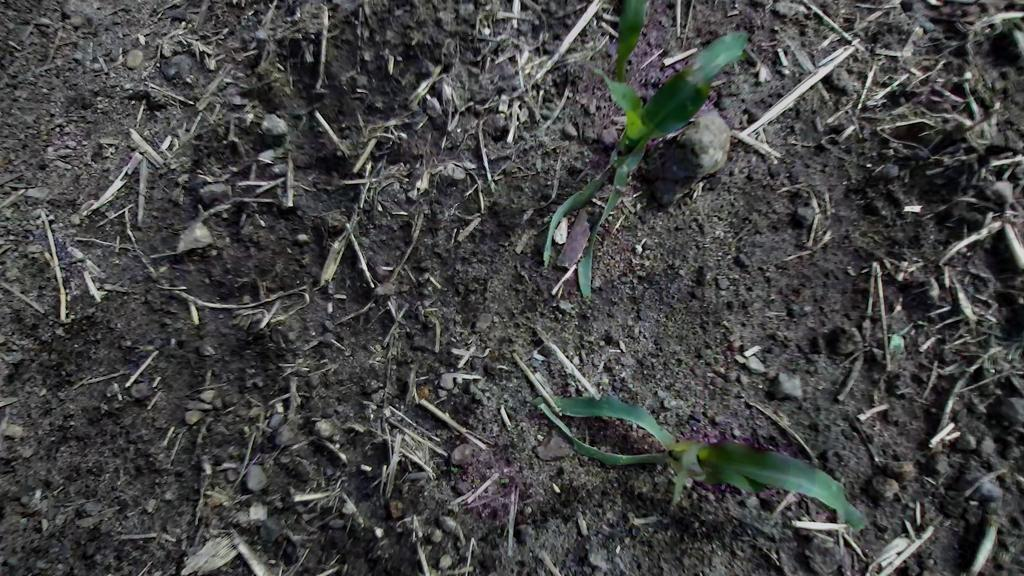BroWeed: (886, 318, 913, 358), (414, 383, 431, 402), (446, 463, 461, 477), (916, 319, 929, 326), (500, 477, 510, 485)
Maize: (510, 374, 879, 571)
